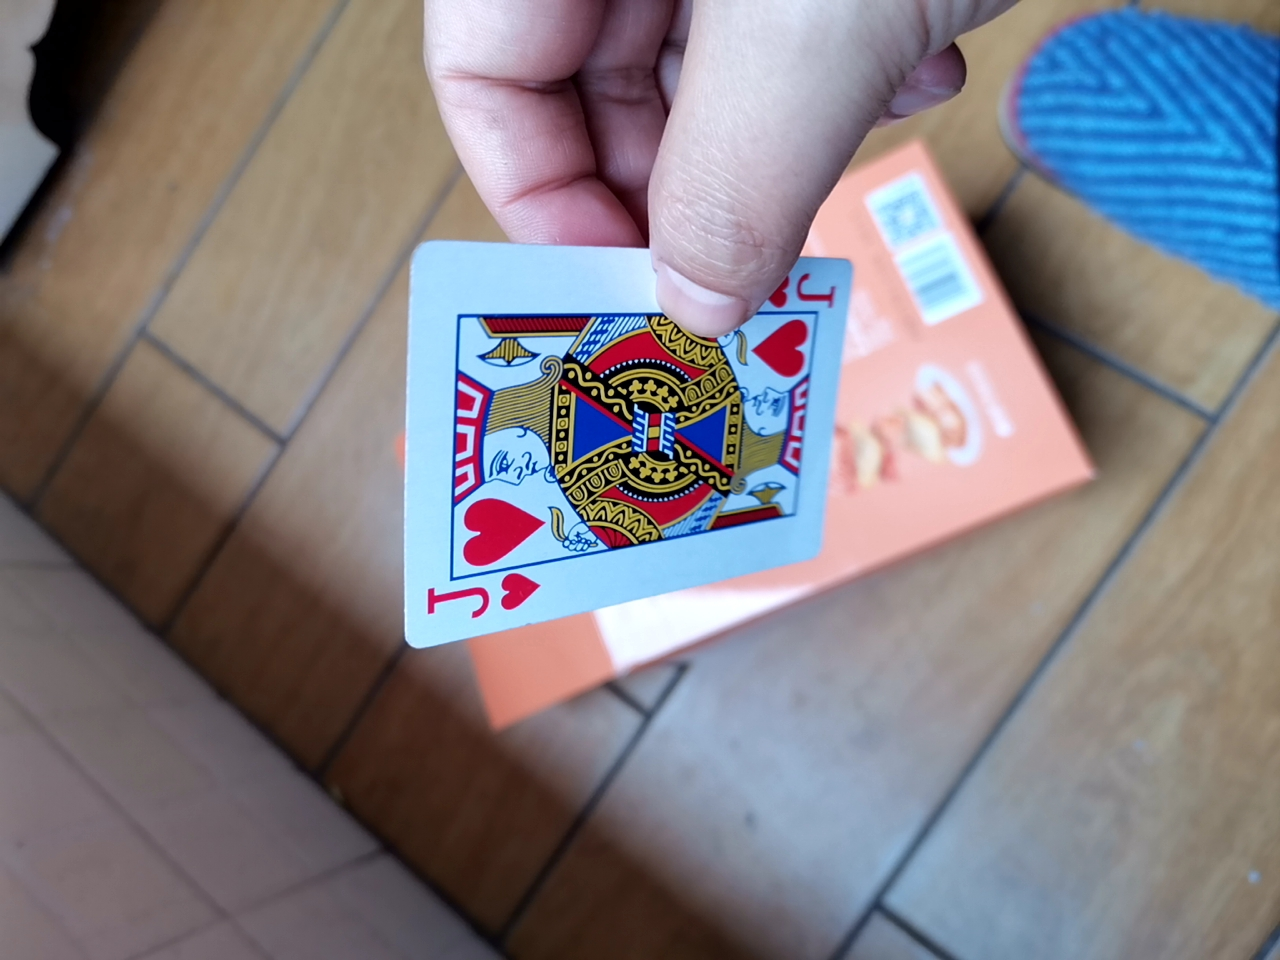hx j: (405, 203, 892, 686)
